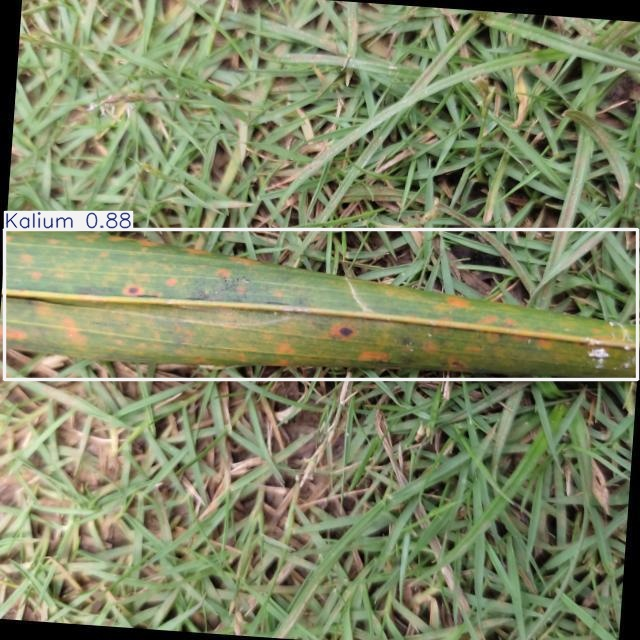Kalium: (4, 229, 638, 380)
